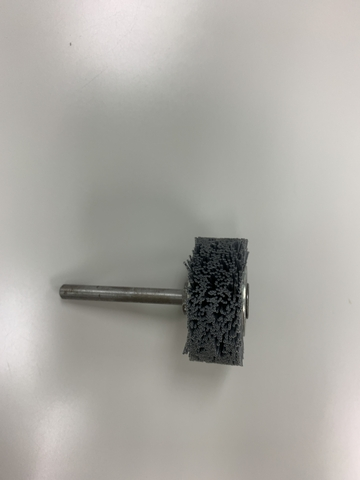Wheel Brush: (58, 236, 258, 369), (102, 228, 266, 369)
